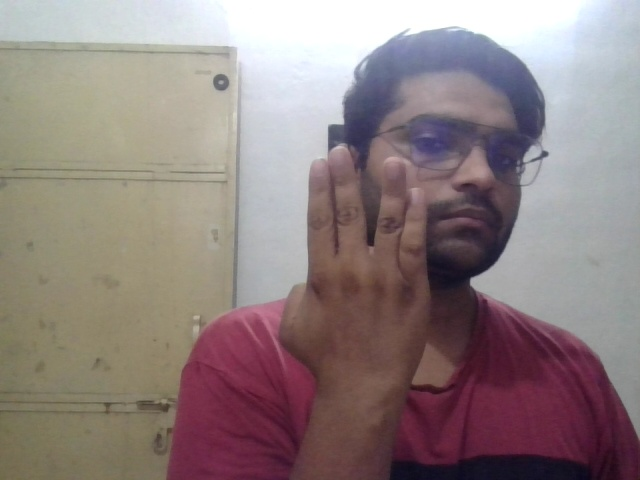LiveLong: (285, 138, 432, 400)
